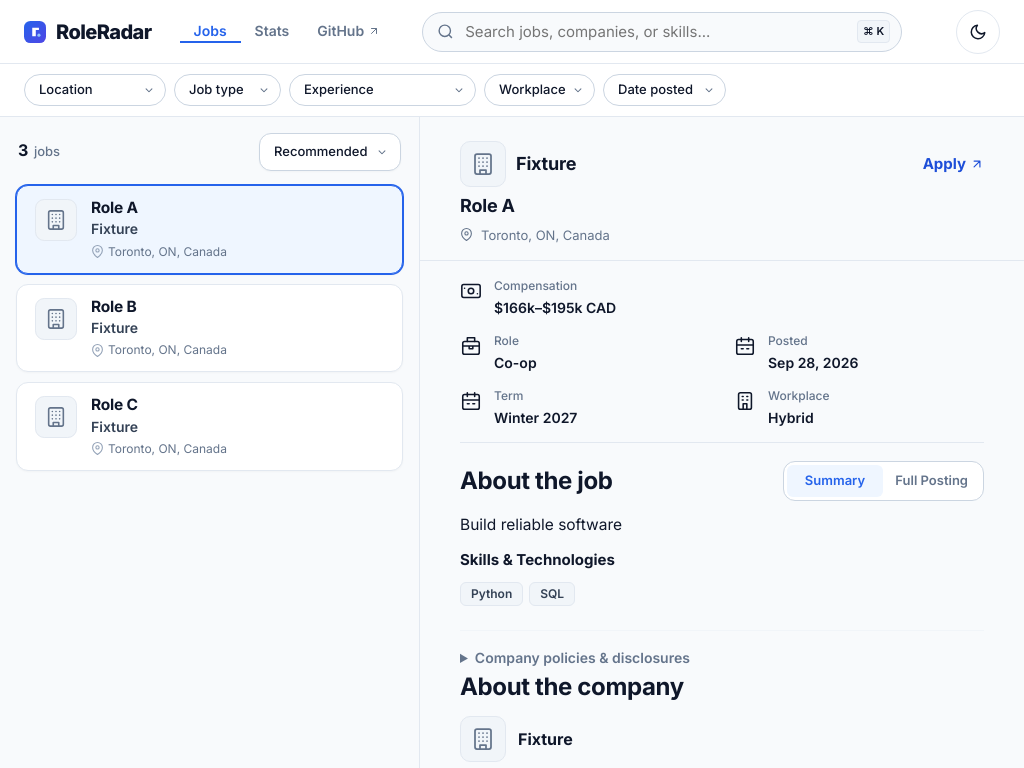
Test: split-view transition behaviour › keeps one pane element while switching jobs and shows the list summary immediately
Expected: the heading "Role A" below "Apply" is shown, 460,195 -> 515,216
What coordinates should you click on to do the following:
click the button with aria-label "View details for Role B"
I would click on:
 (114, 306)
Its box is 91,297 -> 136,316.
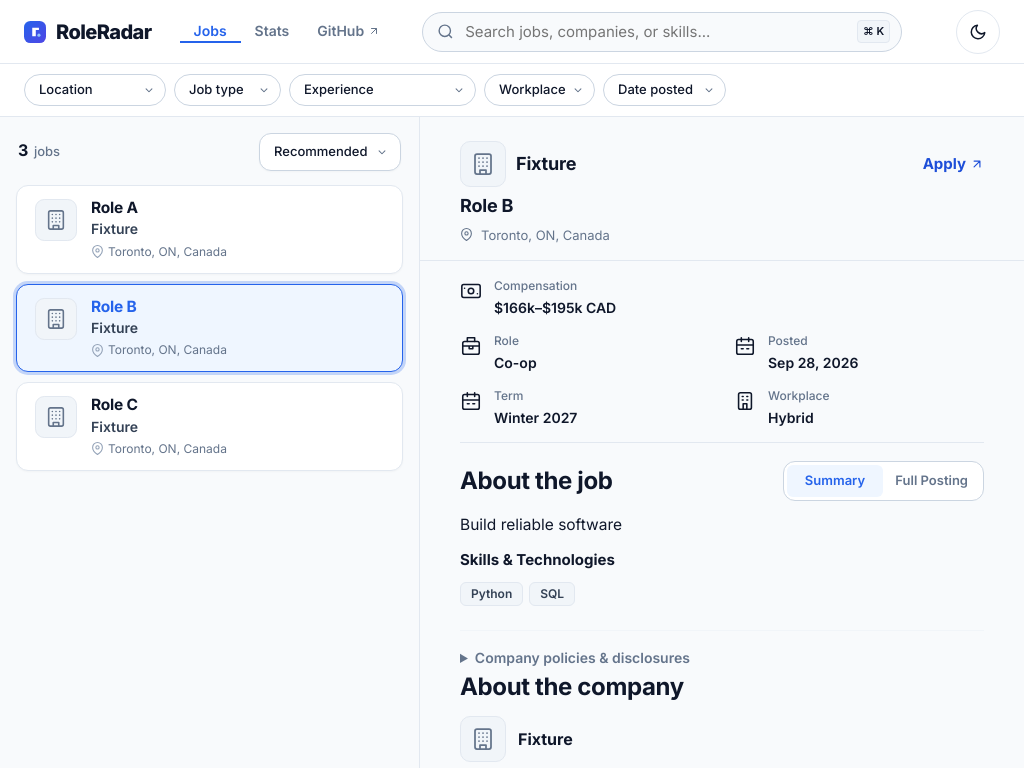
Expected: the element named "Job facts" is shown, 460,261 -> 984,443
Now the heading "Role B" below "Apply" is shown, box 460,195 -> 513,216
